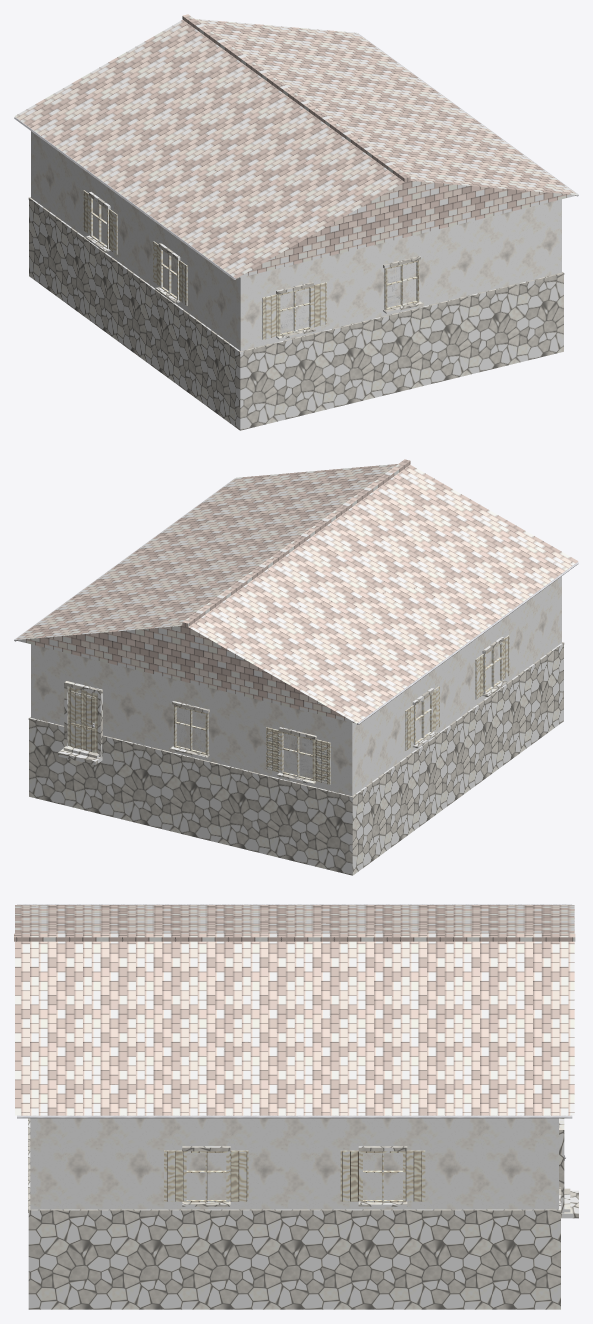
3 renders of one model, top to bottom at view 1: azimuth 30°, elevation 25°; view 2: azimuth 150°, elevation 25°; view 3: azimuth 270°, elevation 25°, orthographic. The views are drawn at different scales.
Parts seen in each view (by area): view 1: b947602165; view 2: b947602165; view 3: b947602165.
Boxes of the visible parts, x1,y1,x2,y2 form: b947602165: [14, 14, 578, 430]; b947602165: [14, 459, 578, 875]; b947602165: [14, 904, 578, 1309].
Bounding box in the file's own units: 11.38 × 6.86 × 12.8.
16 materials, 16 textured.
